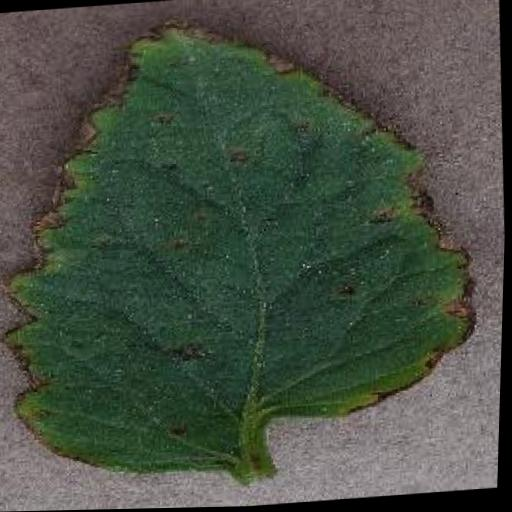Bacterial Spot: (0, 0, 503, 511)
